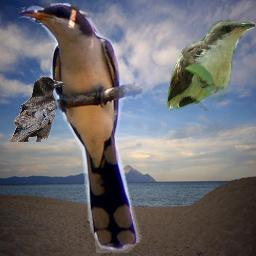Crow: (9, 76, 66, 142)
Cuckoo: (17, 3, 142, 253), (165, 20, 255, 111)
